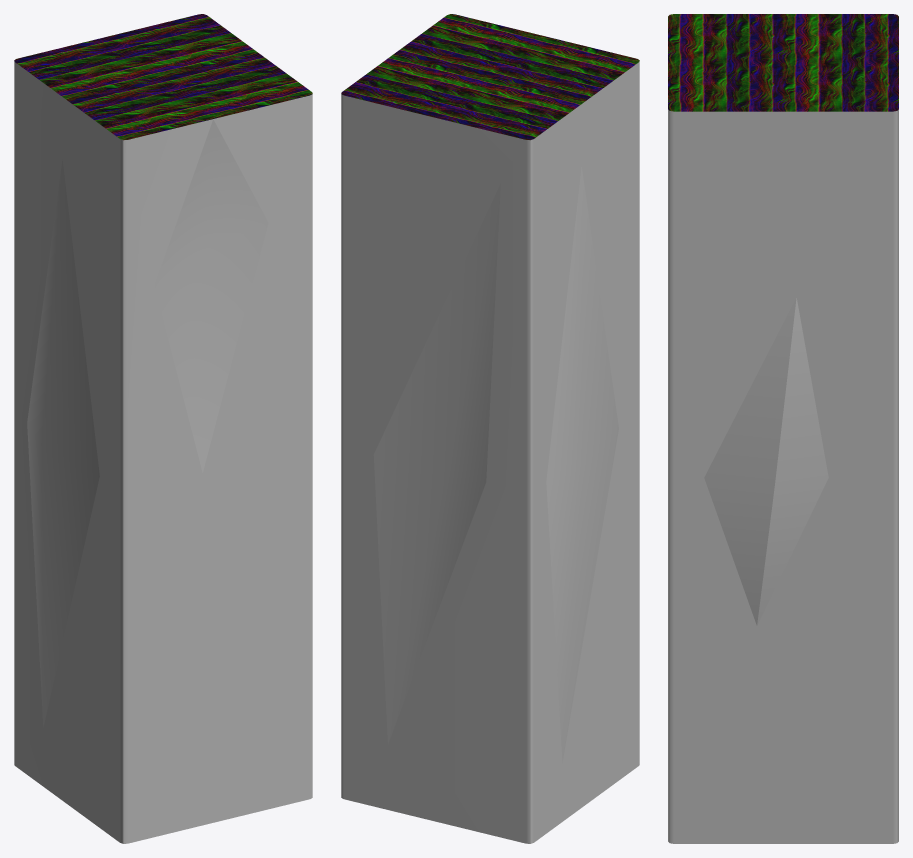
The model's file is SM_4x4TowerSquare_Mid.fbx.
3 views of the same model, side by side, from view 1: azimuth 30°, elevation 25°; view 2: azimuth 150°, elevation 25°; view 3: azimuth 270°, elevation 25° (orthographic). The views are drawn at different scales.
Parts seen in each view (by area): view 1: SM_4x4TowerSquare_Mid_LOD0; view 2: SM_4x4TowerSquare_Mid_LOD0; view 3: SM_4x4TowerSquare_Mid_LOD0.
Part boxes in pixels (x1=…): SM_4x4TowerSquare_Mid_LOD0: x1=14, y1=14, x2=312, y2=843; SM_4x4TowerSquare_Mid_LOD0: x1=341, y1=14, x2=639, y2=843; SM_4x4TowerSquare_Mid_LOD0: x1=668, y1=14, x2=898, y2=843.
Bounding box in the file's own units: 454 × 400 × 1400.
Materials: 2 (1 with a texture image).
